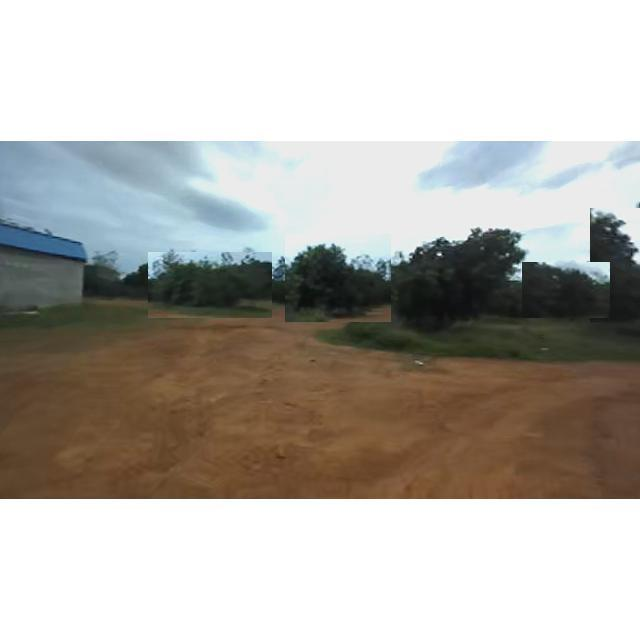direk: (383, 226, 533, 336), (285, 234, 391, 322), (148, 252, 272, 318), (590, 208, 640, 324), (522, 262, 610, 318)
